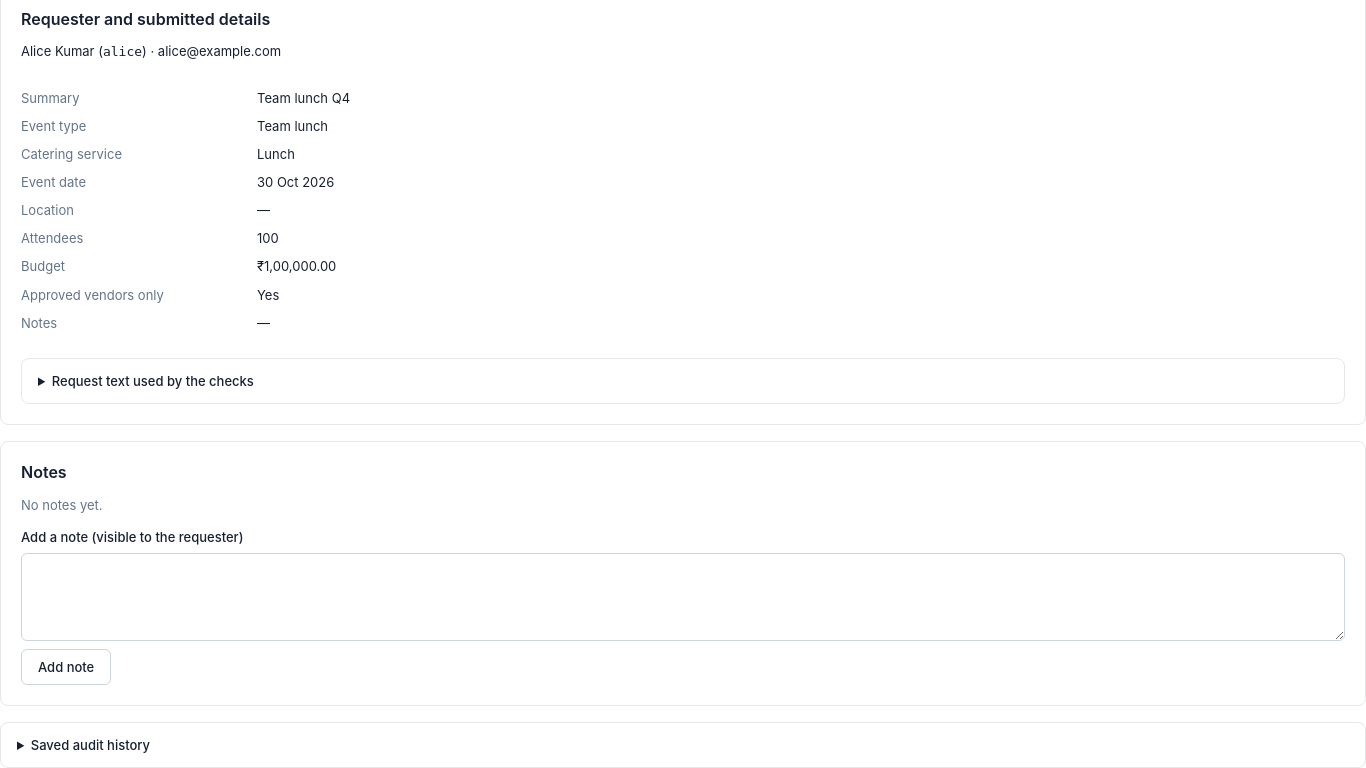
Scenario: AdminRequestDetailPage › adds an admin note
(page scrolled)
Type "Checking" into the text box labelled "Add a note (visible to the requester)" at coordinates (683, 597), box [21,553,1345,641]
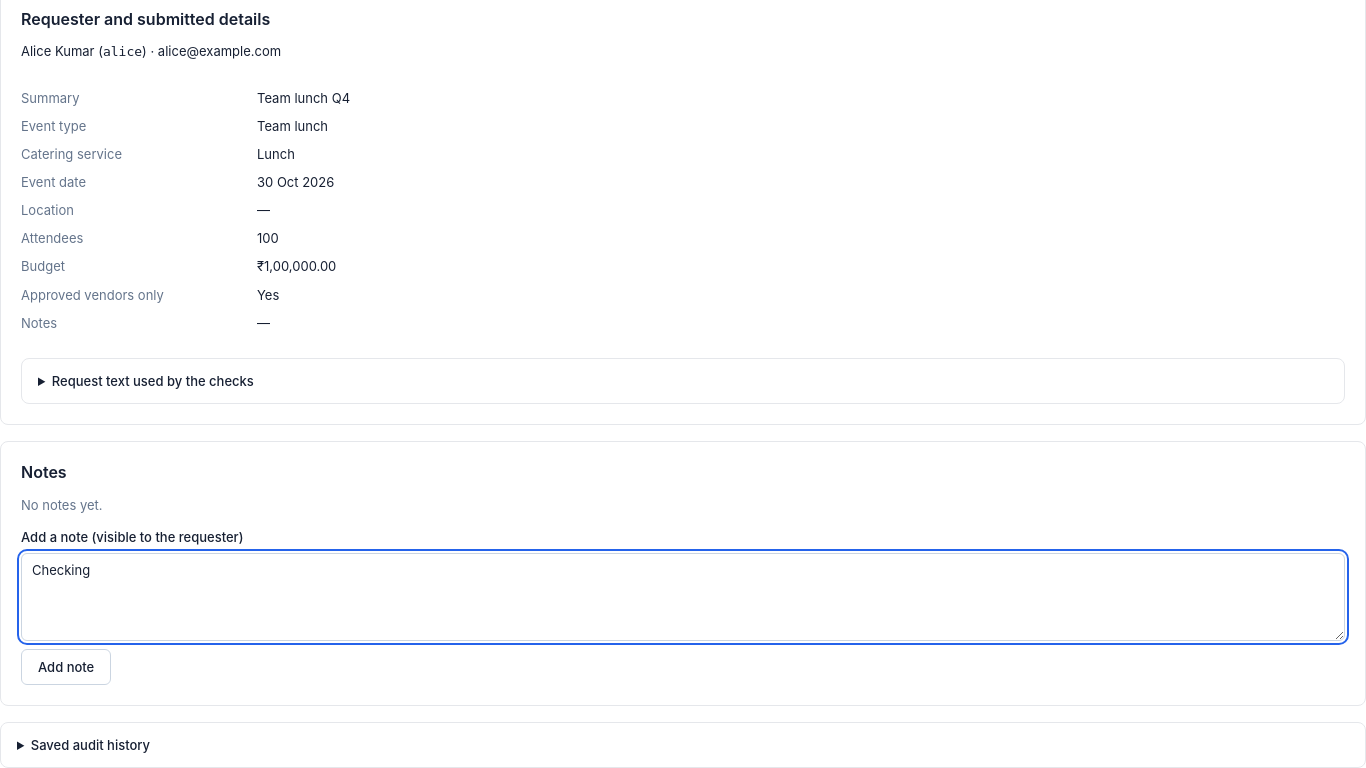
Click the button "Add note" at coordinates (66, 667), box [21,649,111,685]
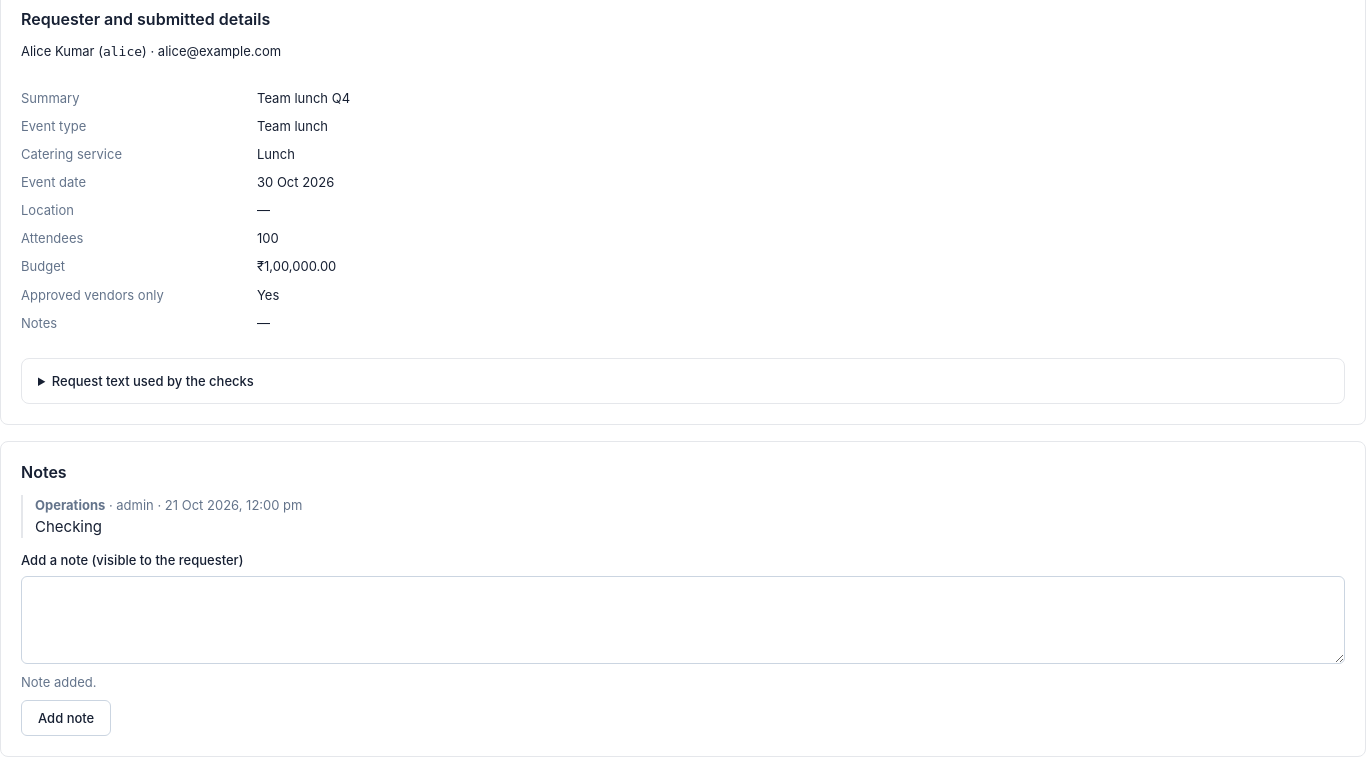
Check: the text "Note added." is shown, box [21,674,96,690]
